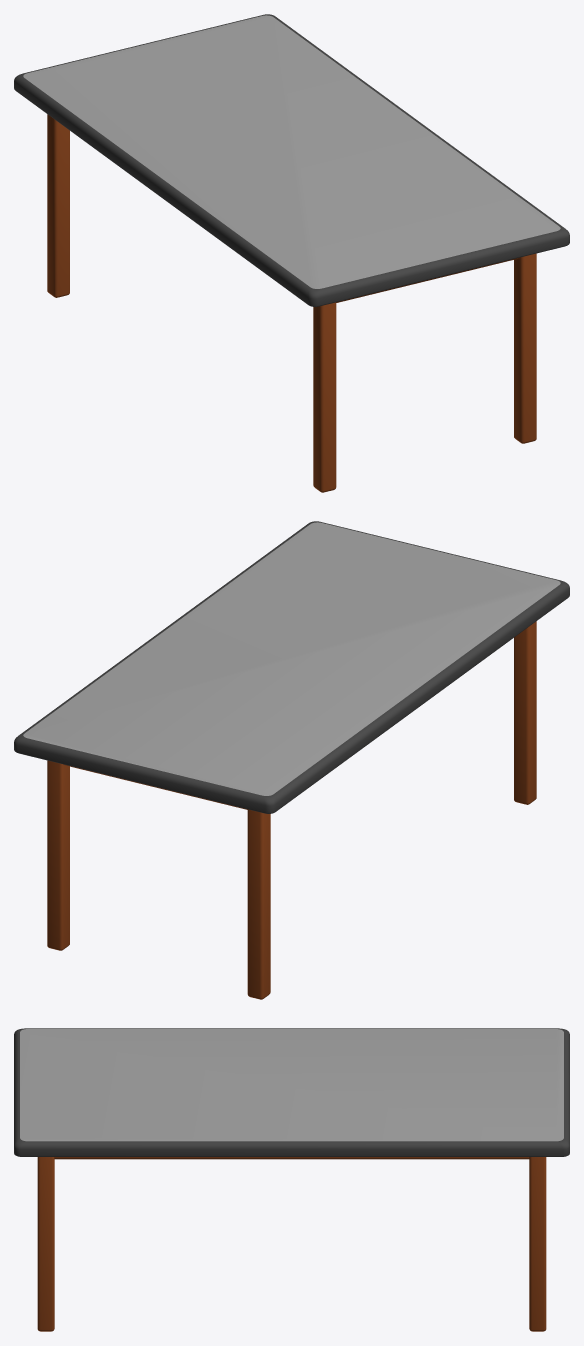
The model's file is table.fbx.
3 renders of one model, top to bottom at view 1: azimuth 30°, elevation 25°; view 2: azimuth 150°, elevation 25°; view 3: azimuth 270°, elevation 25°, orthographic. The views are drawn at different scales.
Parts seen in each view (by area): view 1: Cube.005; view 2: Cube.005; view 3: Cube.005.
Boxes of the visible parts, box(x1,y1,x2,y2) form: Cube.005: box(14, 14, 569, 492); Cube.005: box(14, 521, 569, 999); Cube.005: box(14, 1028, 569, 1331).
Size of the model in its own units: 260 by 130 by 102.
